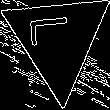L_E: (34, 22, 82, 58)
